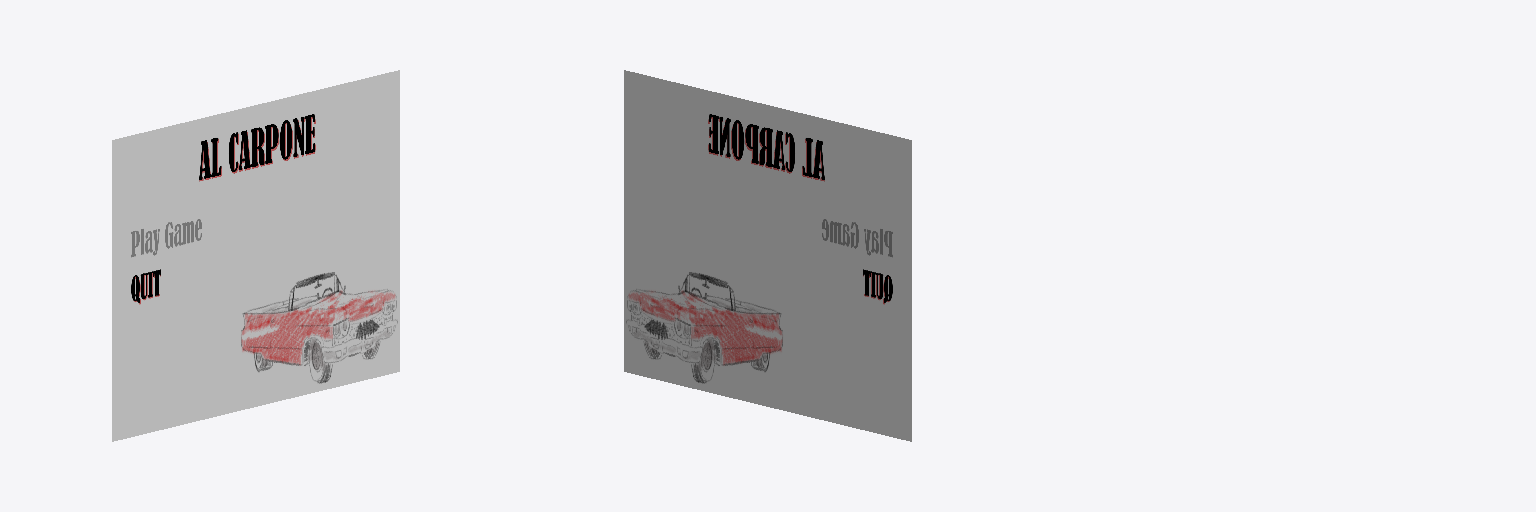
The picture shows the model from 3 angles: view 1: azimuth 30°, elevation 25°; view 2: azimuth 150°, elevation 25°; view 3: azimuth 270°, elevation 25°; orthographic projection.
Parts seen in each view (by area): view 1: Plane; view 2: Plane; view 3: none.
Part boxes in pixels (left/top/right/bottom): Plane: left=112, top=70, right=399, bottom=441; Plane: left=624, top=70, right=911, bottom=441.
Size of the model in its own units: 2 by 2 by 0.
1 materials, 1 textured.